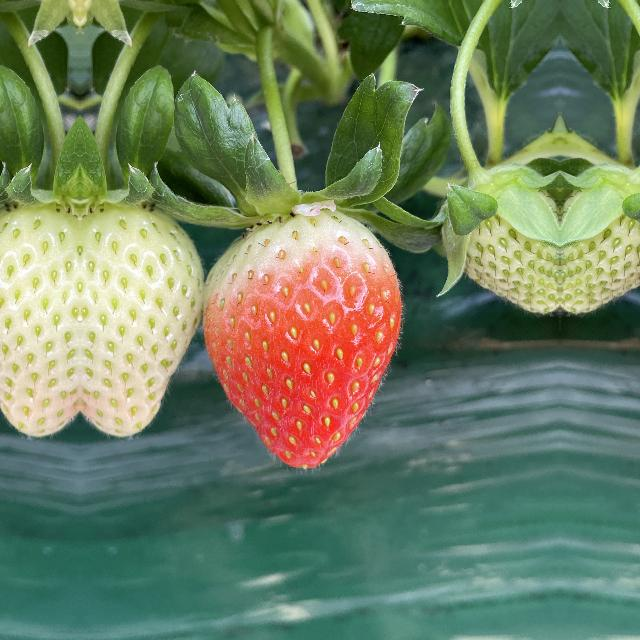Health_100: (181, 200, 429, 482)
Health_25: (80, 185, 198, 442), (0, 185, 80, 442), (442, 176, 560, 320), (560, 176, 640, 319)
